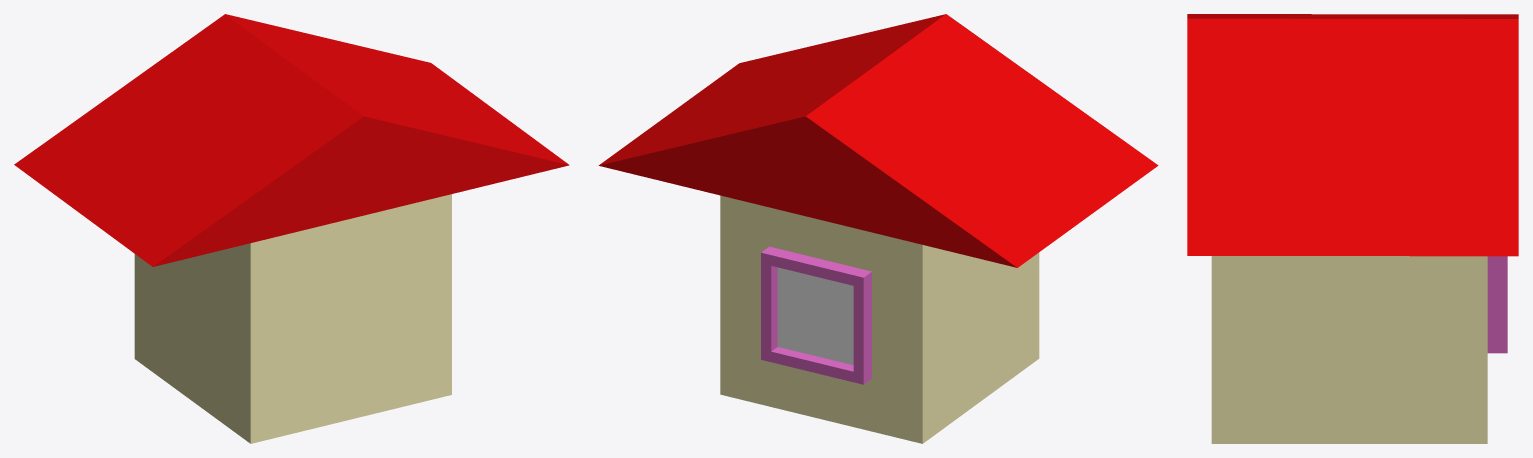
3 views of the same model, side by side, from view 1: azimuth 30°, elevation 25°; view 2: azimuth 150°, elevation 25°; view 3: azimuth 270°, elevation 25° (orthographic). The views are drawn at different scales.
Parts seen in each view (by area): view 1: 立方体; view 2: 立方体; view 3: 立方体.
Part boxes in pixels (x1,y1,x2,y2): 立方体: [14, 14, 569, 443]; 立方体: [598, 14, 1158, 443]; 立方体: [1187, 14, 1518, 443].
Size of the model in its own units: 415 by 294 by 240.
